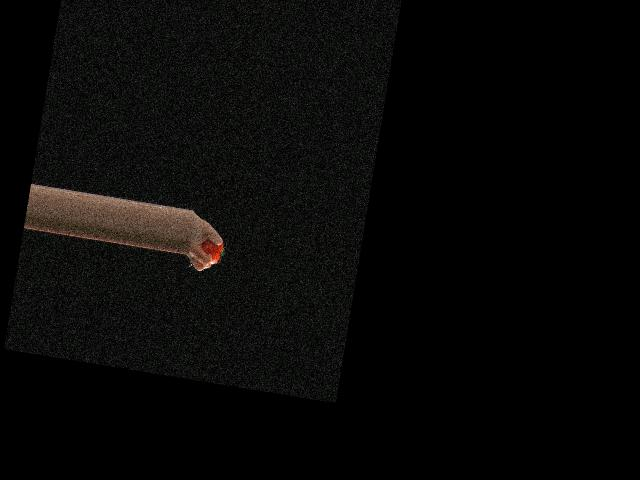tomato: (199, 238, 223, 265)
